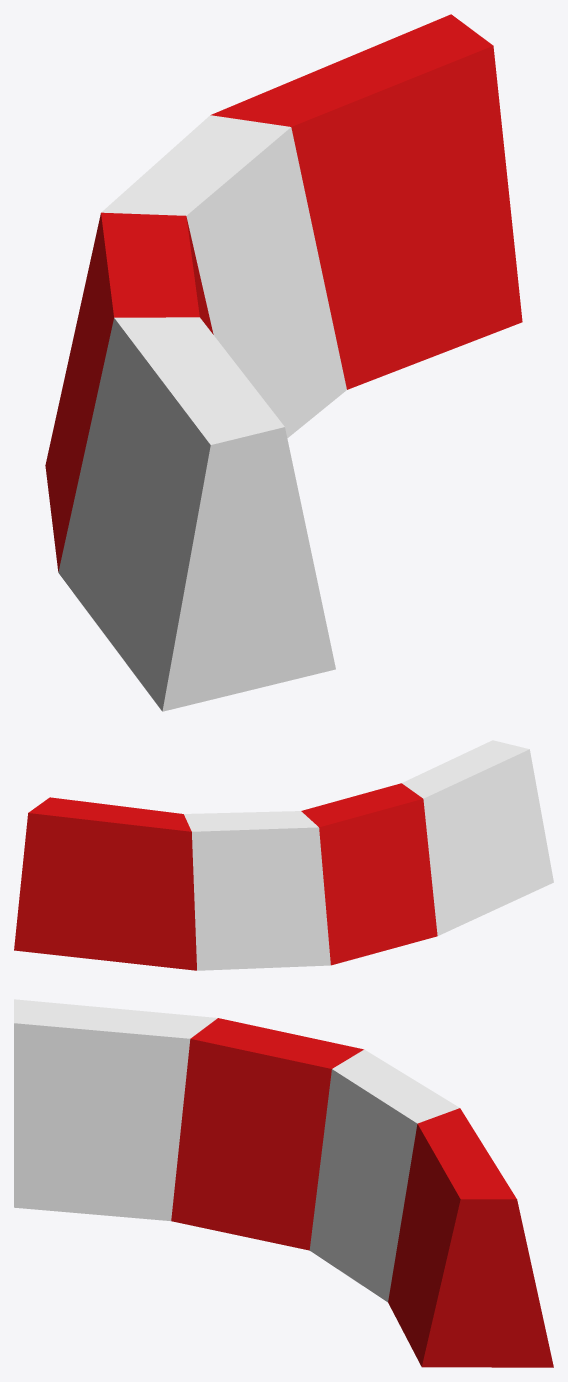
Rendered from road_barrier2.fbx.
3 renders of one model, top to bottom at view 1: azimuth 30°, elevation 25°; view 2: azimuth 150°, elevation 25°; view 3: azimuth 270°, elevation 25°, orthographic. The views are drawn at different scales.
Visible parts, largest first — view 1: Cube; view 2: Cube; view 3: Cube.
Part boxes in pixels (left/top/right/bottom): Cube: left=45, top=14, right=522, bottom=711; Cube: left=14, top=740, right=553, bottom=970; Cube: left=14, top=999, right=553, bottom=1367.
Size of the model in its own units: 551 by 200 by 582.
